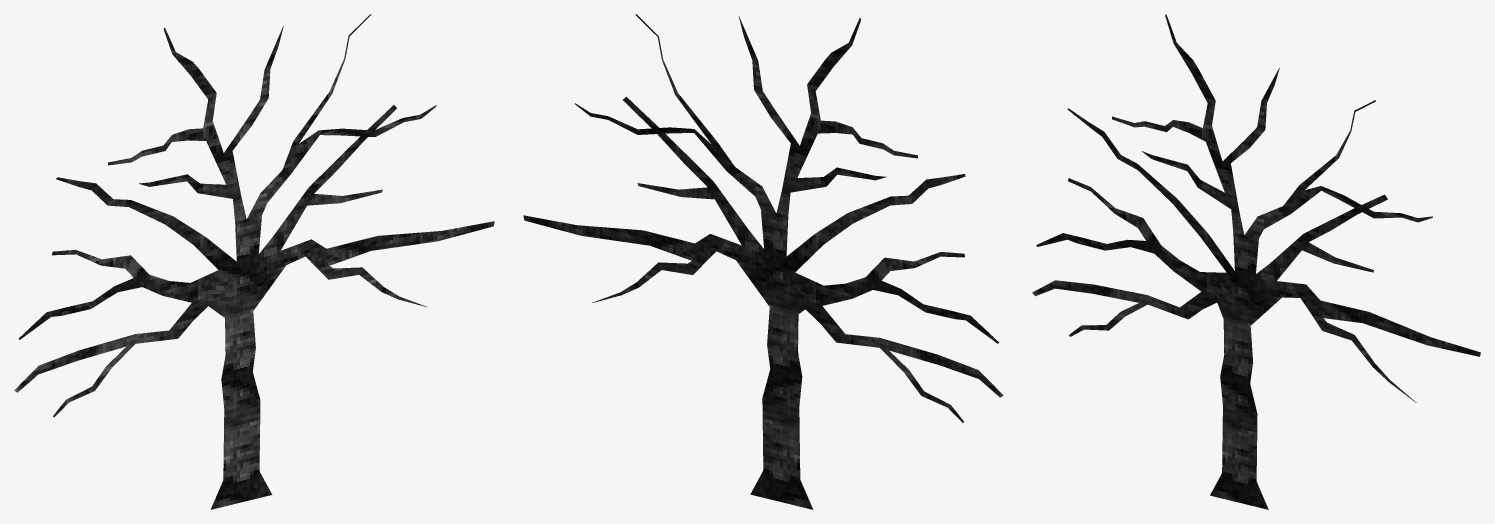
File: TreeBackGround.fbx
3 views of the same model, side by side, from view 1: azimuth 30°, elevation 25°; view 2: azimuth 150°, elevation 25°; view 3: azimuth 330°, elevation 25° (orthographic). The views are drawn at different scales.
Visible parts, largest first — view 1: TreeBackGround; view 2: TreeBackGround; view 3: TreeBackGround.
Boxes of the visible parts, left/top/right/bottom form: TreeBackGround: left=14, top=14, right=494, bottom=509; TreeBackGround: left=523, top=14, right=1003, bottom=509; TreeBackGround: left=1032, top=14, right=1480, bottom=509.
Bounding box in the file's own units: 10.66 × 10.57 × 0.2622.
1 material, 1 textured.
